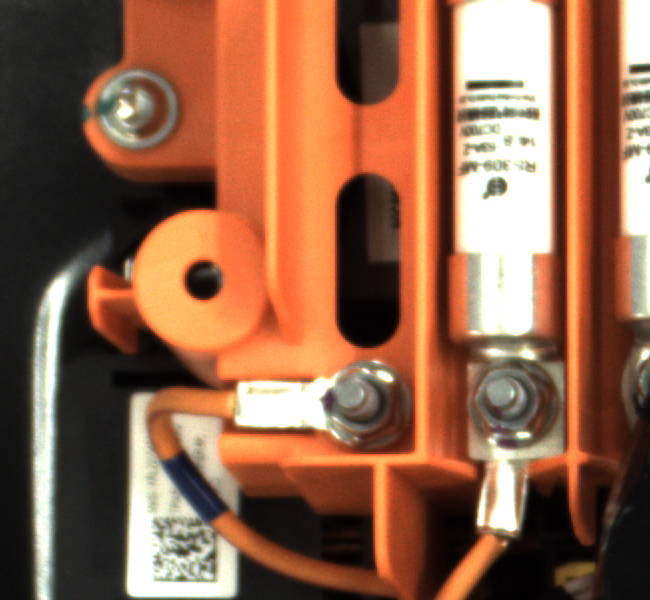screw_m: (74, 63, 188, 157)
screw_s: (302, 355, 407, 448), (465, 358, 563, 448)
